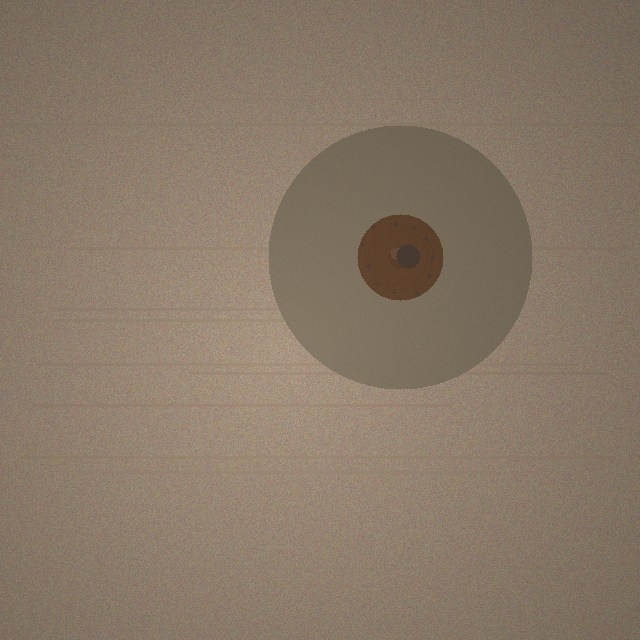cold_weld: (268, 125, 532, 389)
